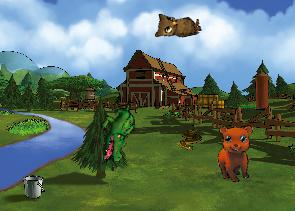bear: (211, 120, 263, 185)
crocodile: (97, 101, 138, 163)
owl: (151, 5, 202, 42)
